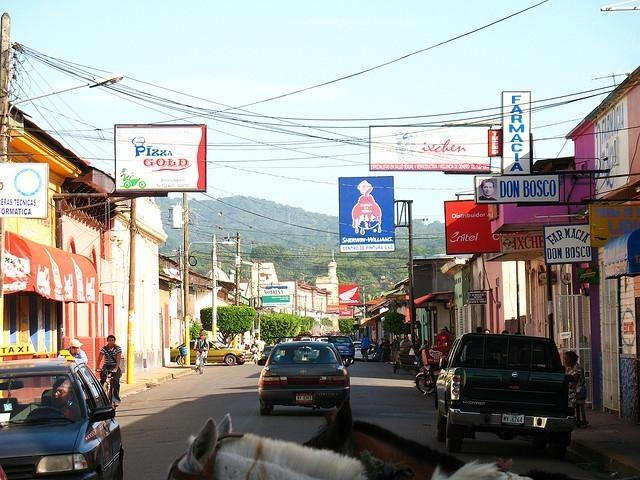bicycle: (94, 368, 115, 396), (196, 349, 207, 374), (374, 341, 383, 359), (250, 349, 260, 363), (362, 348, 370, 362)
car: (0, 361, 126, 479), (258, 334, 353, 416), (170, 340, 247, 366), (328, 336, 355, 364), (262, 346, 280, 360), (354, 342, 364, 359), (321, 338, 328, 342)
motorcycle: (414, 347, 446, 395)
truck: (430, 335, 582, 460)
